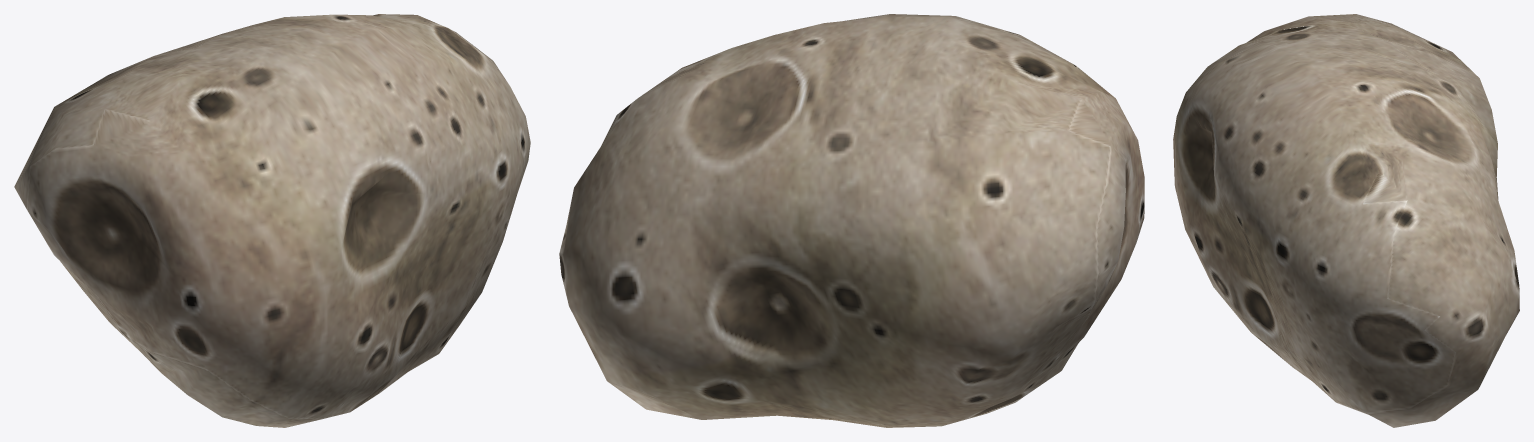
The model's file is prop_asteroid_02.FBX.
The picture shows the model from 3 angles, left to right: view 1: azimuth 30°, elevation 25°; view 2: azimuth 150°, elevation 25°; view 3: azimuth 270°, elevation 25°; orthographic projection. The views are drawn at different scales.
Parts seen in each view (by area): view 1: prop_asteroid_02; view 2: prop_asteroid_02; view 3: prop_asteroid_02.
Part boxes in pixels (bbox=[...]): prop_asteroid_02: bbox=[14, 14, 530, 427]; prop_asteroid_02: bbox=[559, 14, 1144, 427]; prop_asteroid_02: bbox=[1173, 14, 1519, 427].
Size of the model in its own units: 125 by 91.78 by 93.48.
